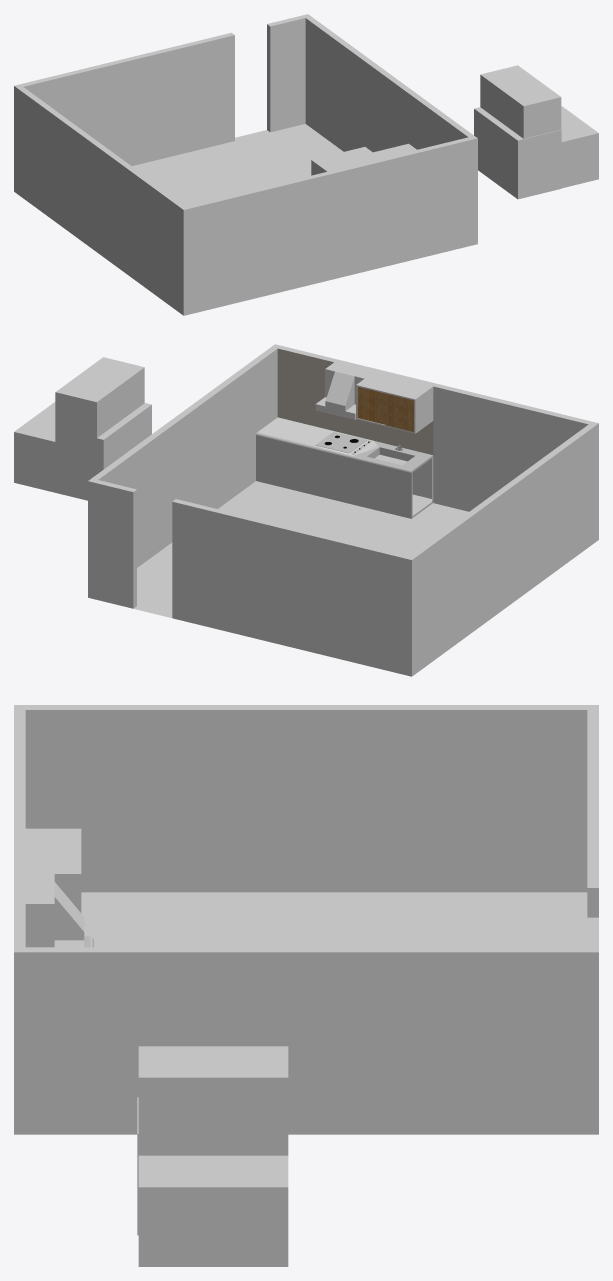
File: FornitureTest.fbx
3 views of the same model, one above another, from view 1: azimuth 30°, elevation 25°; view 2: azimuth 150°, elevation 25°; view 3: azimuth 270°, elevation 25° (orthographic). The views are drawn at different scales.
Visible parts, largest first — view 1: Group1, Group2; view 2: Group1, Group2; view 3: Group1, Group2.
Part boxes in pixels (bbox=[...]): Group1: bbox=[14, 14, 477, 315]; Group2: bbox=[474, 65, 598, 199]; Group1: bbox=[88, 344, 598, 676]; Group2: bbox=[14, 357, 151, 500]; Group1: bbox=[14, 705, 598, 1134]; Group2: bbox=[137, 1046, 288, 1266].
Size of the model in its own units: 15.35 by 3.44 by 10.
